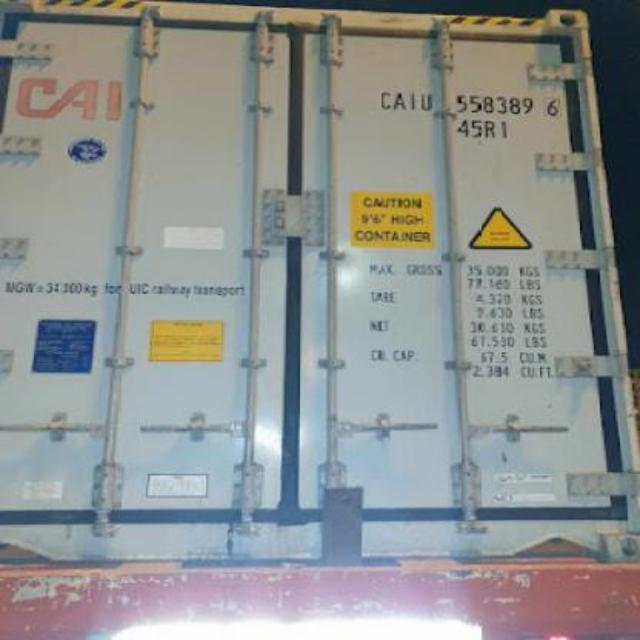3: (495, 96, 507, 116)
5: (455, 94, 469, 115), (470, 94, 482, 115)
6: (544, 96, 562, 120)
8: (482, 95, 496, 115), (510, 96, 522, 116)
9: (520, 96, 534, 116)
A: (392, 90, 406, 114)
C: (379, 90, 391, 112)
I: (408, 91, 418, 113)
U: (420, 92, 434, 114)
